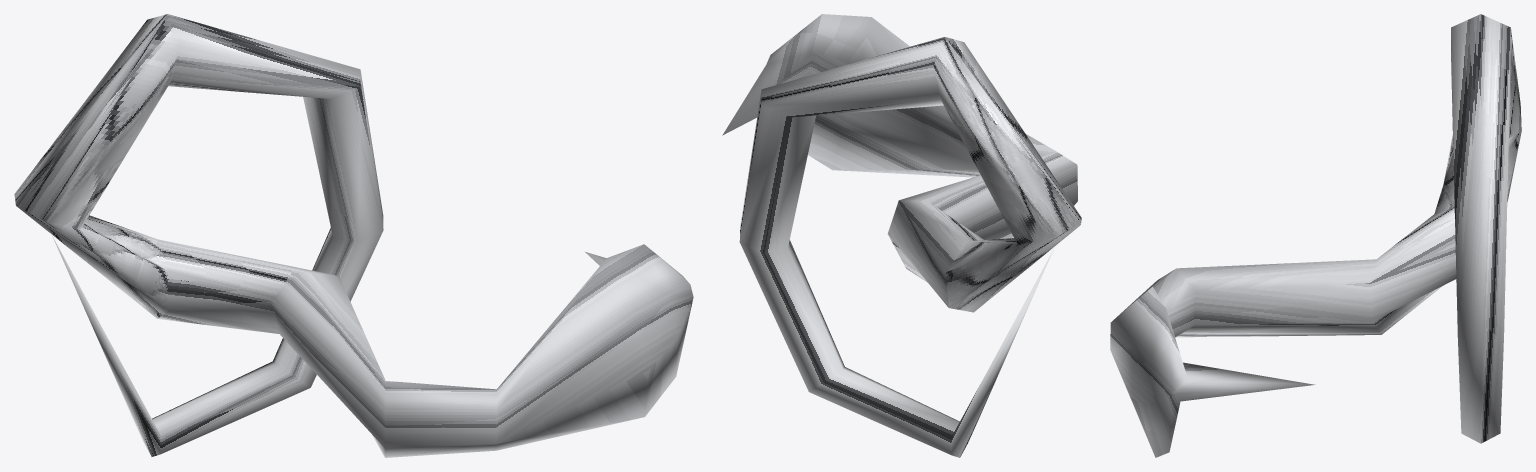
The model's file is snake_000028.obj.
3 views of the same model, side by side, from view 1: azimuth 30°, elevation 25°; view 2: azimuth 150°, elevation 25°; view 3: azimuth 270°, elevation 25° (orthographic). The views are drawn at different scales.
Visible parts, largest first — view 1: Cylinder; view 2: Cylinder; view 3: Cylinder.
Boxes of the visible parts, x1,y1,x2,y2 form: Cylinder: (14, 14, 693, 457); Cylinder: (722, 14, 1081, 457); Cylinder: (1110, 14, 1521, 457).
Bounding box in the file's own units: 2.91 × 2.43 × 2.27.
